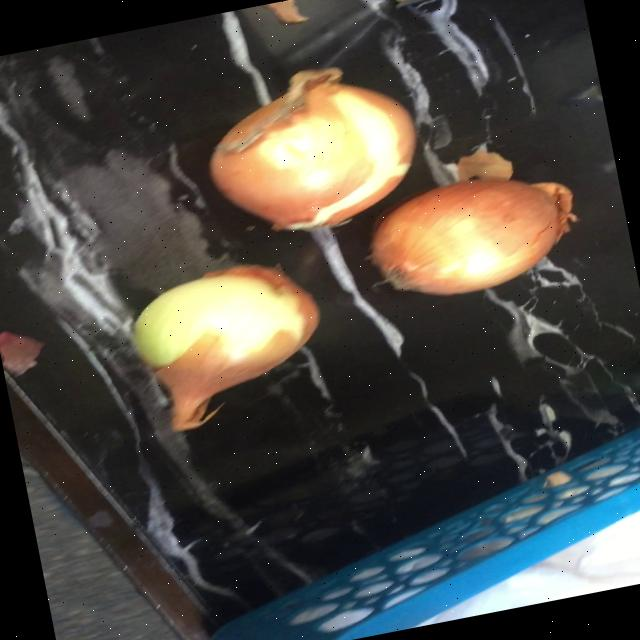Onion: (210, 67, 416, 230), (134, 266, 318, 432), (372, 179, 573, 295)
